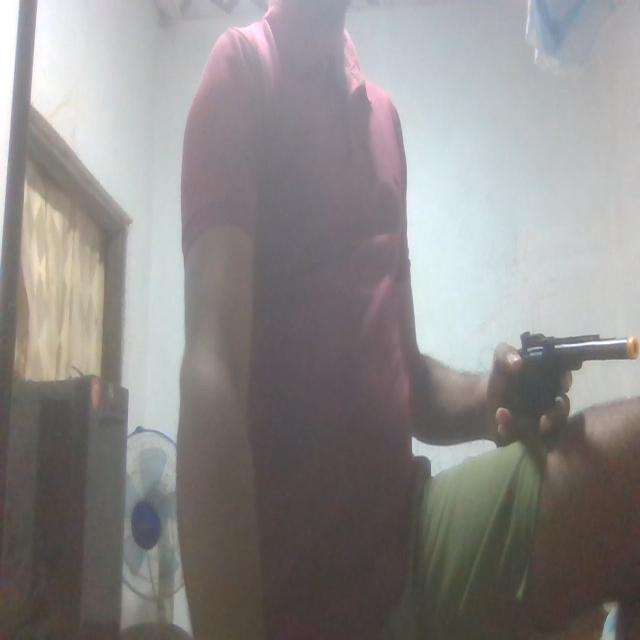Gun_Holder: (478, 310, 640, 483)
Person: (172, 2, 640, 640)
